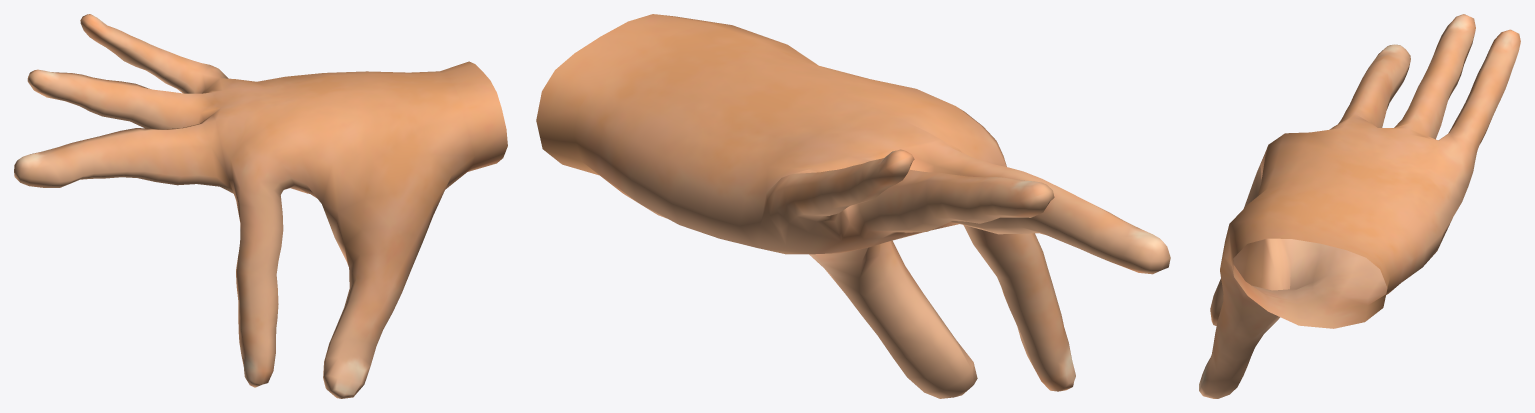
The model's file is H_pinch_spread.fbx.
3 views of the same model, side by side, from view 1: azimuth 30°, elevation 25°; view 2: azimuth 150°, elevation 25°; view 3: azimuth 270°, elevation 25° (orthographic). The views are drawn at different scales.
Visible parts, largest first — view 1: H_pinch_spread; view 2: H_pinch_spread; view 3: H_pinch_spread.
Boxes of the visible parts, x1=… form: H_pinch_spread: x1=14, y1=14, x2=507, y2=398; H_pinch_spread: x1=536, y1=14, x2=1170, y2=398; H_pinch_spread: x1=1199, y1=14, x2=1520, y2=398.
Size of the model in its own units: 20.8 by 13.64 by 12.78.
Materials: 1 (1 with a texture image).
